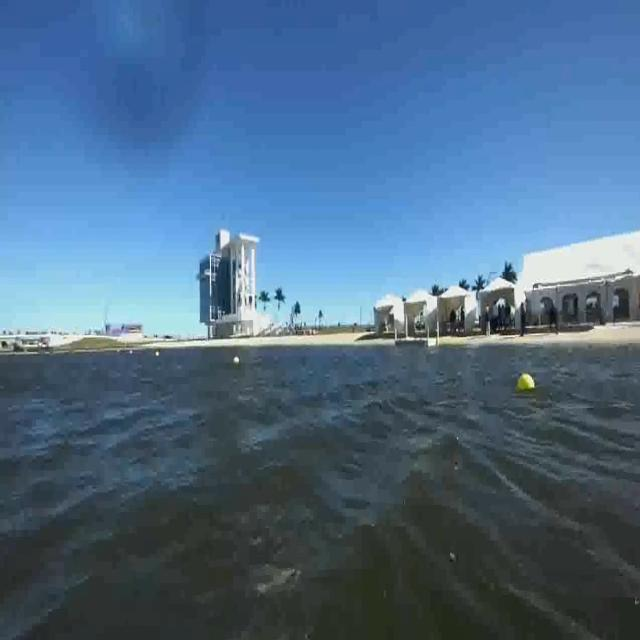yellow-buoy: (517, 374, 536, 392)
